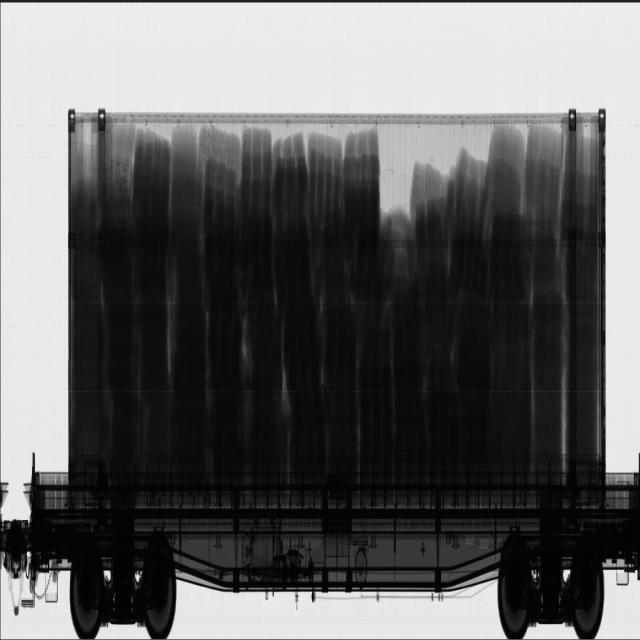clothes: (71, 127, 598, 465)
